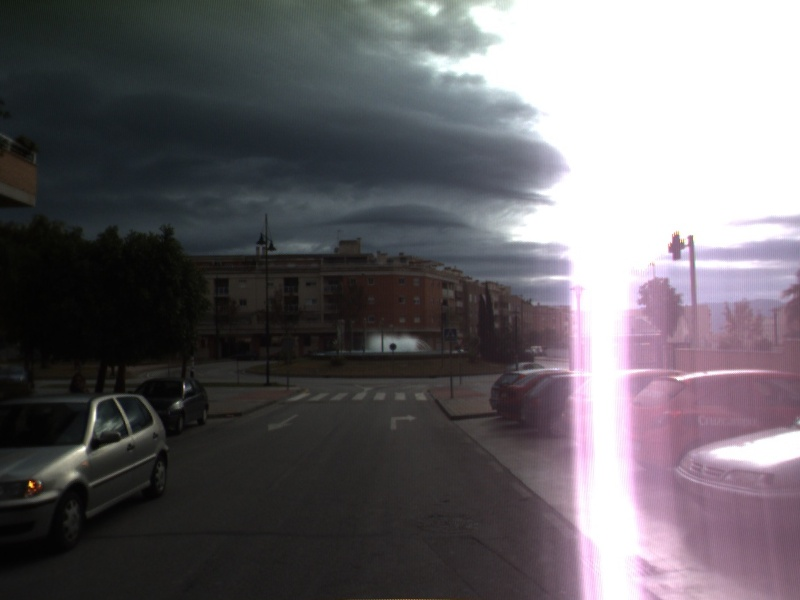RIGHT: (389, 412, 419, 432)
